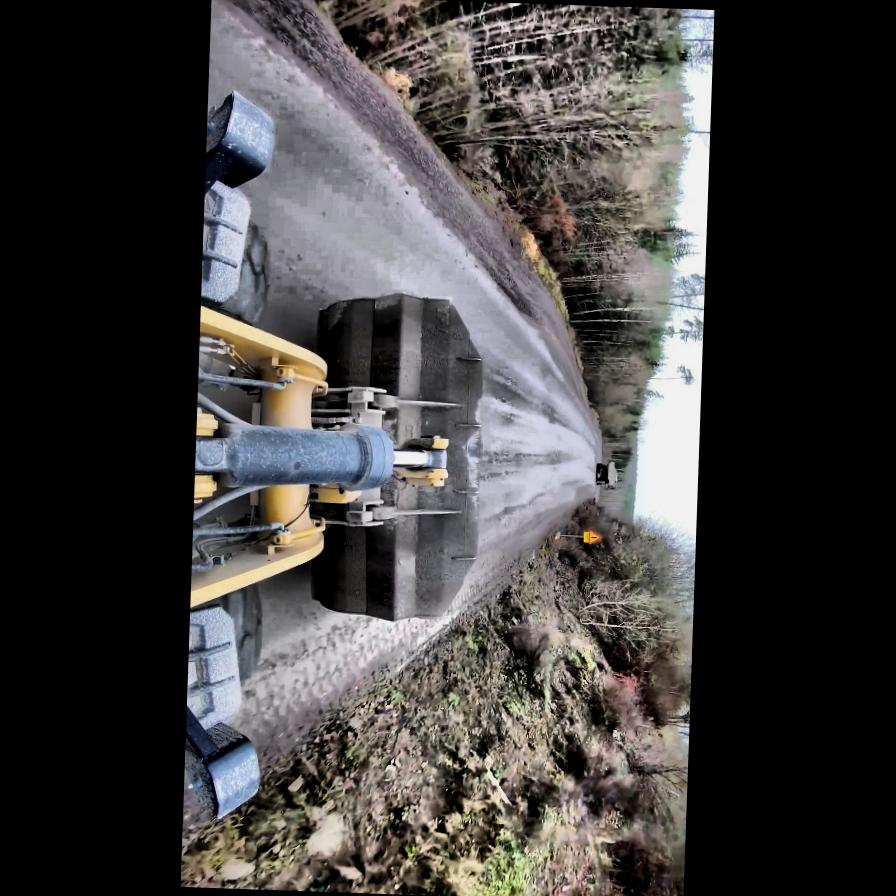anchor: (392, 435, 451, 487)
